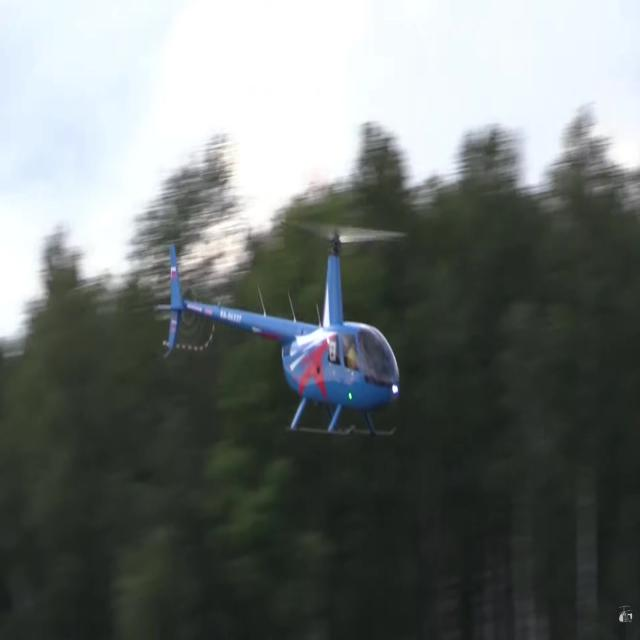CIV_HELO: (165, 232, 402, 442)
